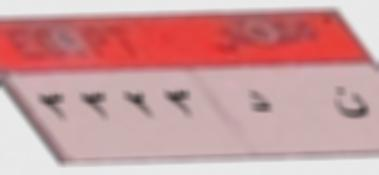2: (123, 87, 156, 120)
3: (161, 82, 202, 119), (40, 85, 73, 125), (81, 86, 114, 124)
daal: (246, 83, 270, 120)
noon: (332, 81, 372, 121)
